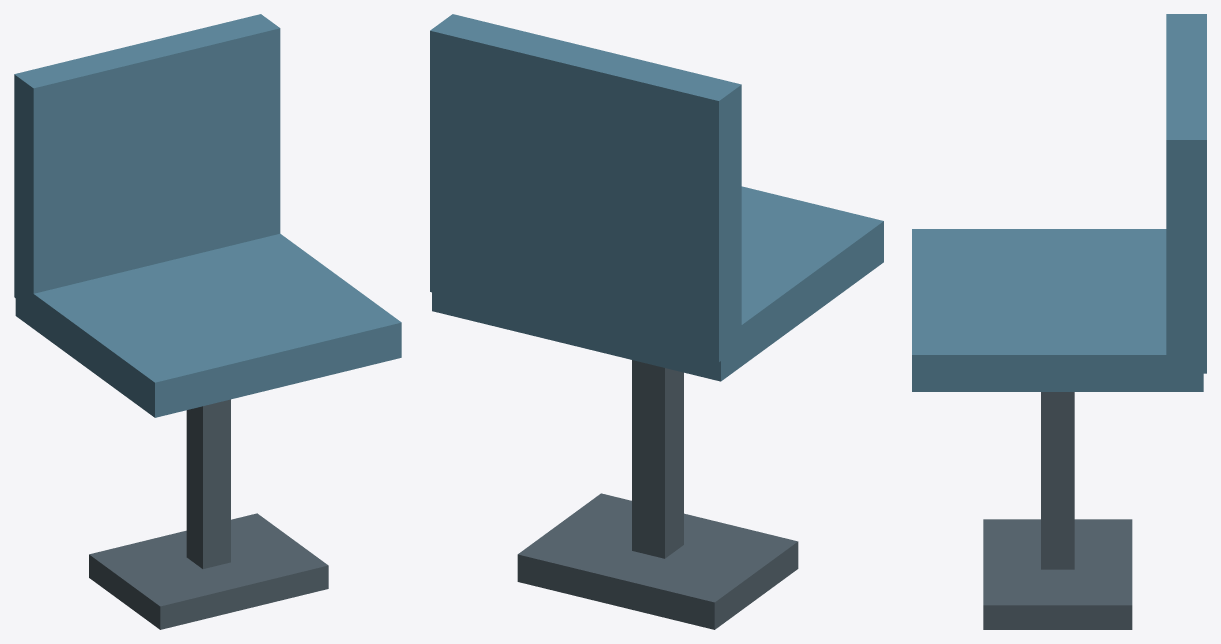
The model's file is football-soccer-club-grounds-bucket-seat-1a72cd60.glb.
3 renders of one model, left to right at view 1: azimuth 30°, elevation 25°; view 2: azimuth 150°, elevation 25°; view 3: azimuth 270°, elevation 25°, orthographic. The views are drawn at different scales.
Parts seen in each view (by area): view 1: bucket-seat; view 2: bucket-seat; view 3: bucket-seat.
Boxes of the visible parts, x1,y1,x2,y2 form: bucket-seat: [14, 14, 401, 629]; bucket-seat: [430, 14, 883, 629]; bucket-seat: [912, 14, 1206, 629].
Size of the model in its own units: 0.44 by 0.83 by 0.435.
